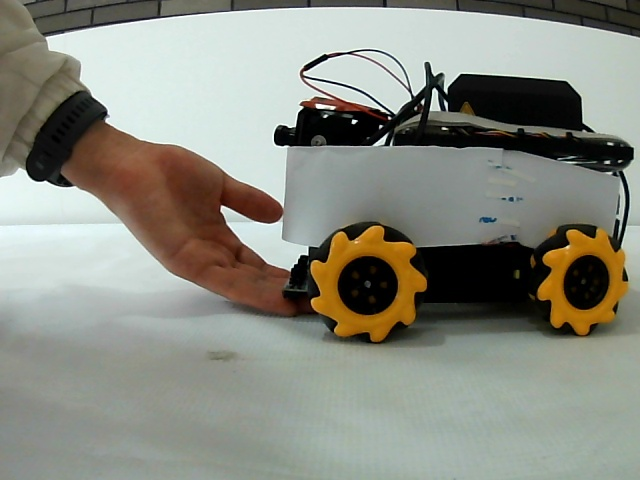car: (274, 65, 631, 336)
paper: (289, 149, 615, 227)
